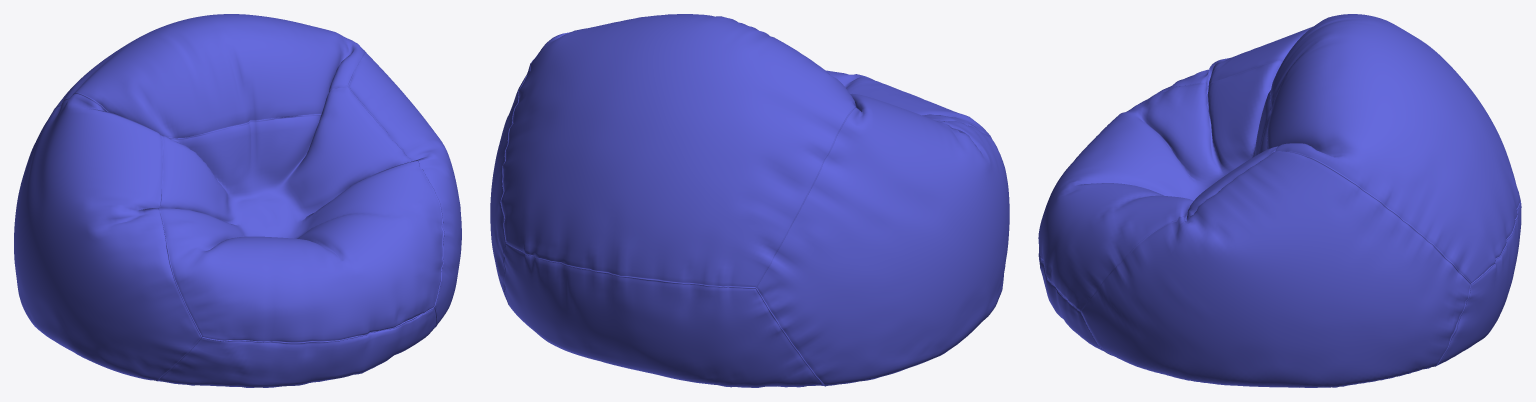
Rendered from uploads_files_3831840_beanchair.fbx.
3 views of the same model, side by side, from view 1: azimuth 30°, elevation 25°; view 2: azimuth 150°, elevation 25°; view 3: azimuth 270°, elevation 25° (orthographic). The views are drawn at different scales.
Visible parts, largest first — view 1: bean_chair_hires; view 2: bean_chair_hires; view 3: bean_chair_hires.
Part boxes in pixels (x1=…): bean_chair_hires: x1=14, y1=14, x2=461, y2=387; bean_chair_hires: x1=490, y1=14, x2=1009, y2=387; bean_chair_hires: x1=1038, y1=14, x2=1521, y2=387.
Bounding box in the file's own units: 759 × 471 × 771.
